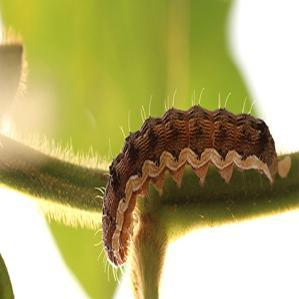Cotton bollworm: (76, 94, 289, 271)
